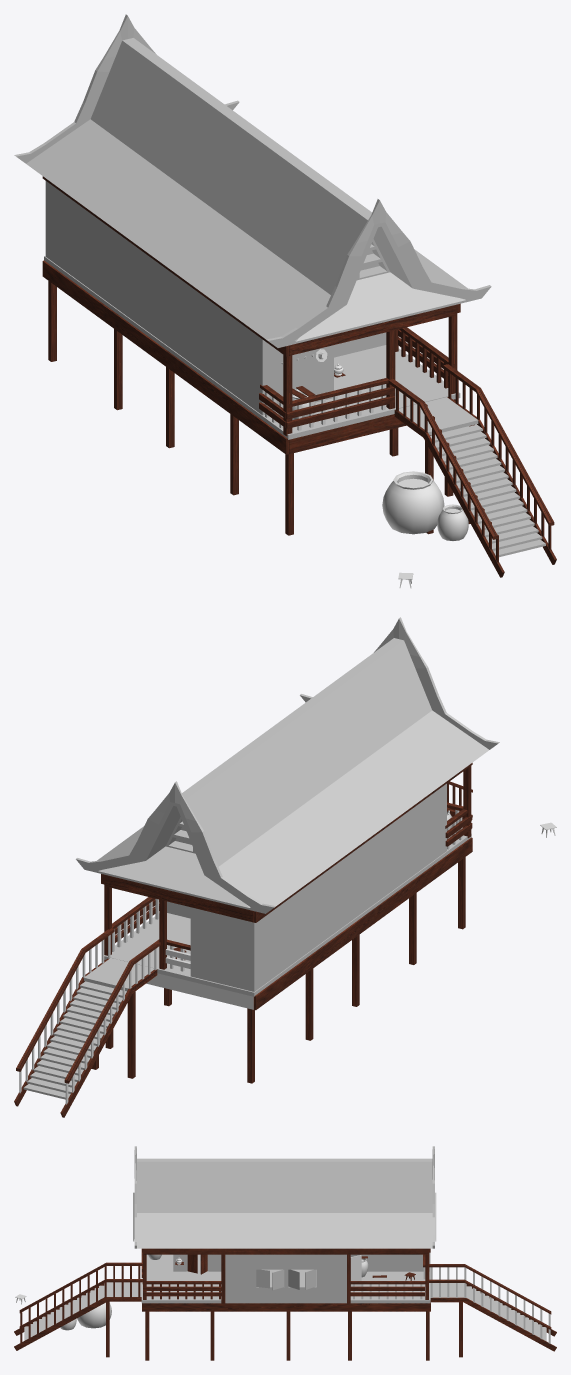
File: บ้านแม่นาค2.fbx
3 renders of one model, top to bottom at view 1: azimuth 30°, elevation 25°; view 2: azimuth 150°, elevation 25°; view 3: azimuth 270°, elevation 25°, orthographic. The views are drawn at different scales.
Visible parts, largest first — view 1: Cube.010, Cube.009, Cube.001, Cube.006, Cube.030, Cylinder, Cube.070, Cube.031, Cube.005, Cube.048, Cube.049, Cube.008 (+12 smaller); view 2: Cube.010, Cube.009, Cube.051, Cube.001, Cube.030, Cube.072, Cube.032, Cube.059, Cube.058, Cube.050, Cube.052, Cube.076 (+4 smaller); view 3: Cube.010, Cube.009, Cube.001, Cube.029, Cube.035, Cube.051, Cube.006, Cube.053, Cube.007, Cylinder, Cube.058, Cube.048 (+15 smaller).
Boxes of the visible parts, <box> form: Cube.010: <box>14,14,491,347</box>; Cube.009: <box>45,181,386,415</box>; Cube.001: <box>44,256,460,439</box>; Cube.006: <box>430,424,545,557</box>; Cube.030: <box>42,260,288,454</box>; Cylinder: <box>382,471,444,534</box>; Cube.070: <box>289,305,455,355</box>; Cube.031: <box>289,399,455,454</box>; Cube.005: <box>399,397,478,435</box>; Cube.048: <box>443,364,554,525</box>; Cube.049: <box>388,379,497,539</box>; Cube.008: <box>394,409,504,577</box>; Cube.010: <box>76,617,499,913</box>; Cube.009: <box>167,783,446,991</box>; Cube.051: <box>23,981,126,1099</box>; Cube.001: <box>104,834,471,996</box>; Cube.030: <box>253,837,472,1010</box>; Cube.072: <box>105,875,253,922</box>; Cube.032: <box>146,973,253,1009</box>; Cube.059: <box>16,928,114,1071</box>; Cube.058: <box>64,939,160,1083</box>; Cube.050: <box>83,958,154,991</box>; Cube.052: <box>60,969,157,1117</box>; Cube.076: <box>127,991,135,1078</box>; Cube.010: <box>133,1146,436,1248</box>; Cube.009: <box>173,1253,429,1300</box>; Cube.001: <box>141,1252,430,1303</box>; Cube.029: <box>142,1301,430,1311</box>; Cube.035: <box>144,1248,428,1254</box>; Cube.051: <box>466,1286,546,1341</box>; Cube.006: <box>24,1285,104,1340</box>; Cube.053: <box>430,1297,556,1351</box>; Cube.007: <box>14,1297,141,1350</box>; Cylinder: <box>77,1302,111,1328</box>; Cube.058: <box>423,1264,551,1314</box>; Cube.048: <box>19,1279,142,1329</box>.
Bounding box in the file's own units: 1229 × 1690 × 4365.
